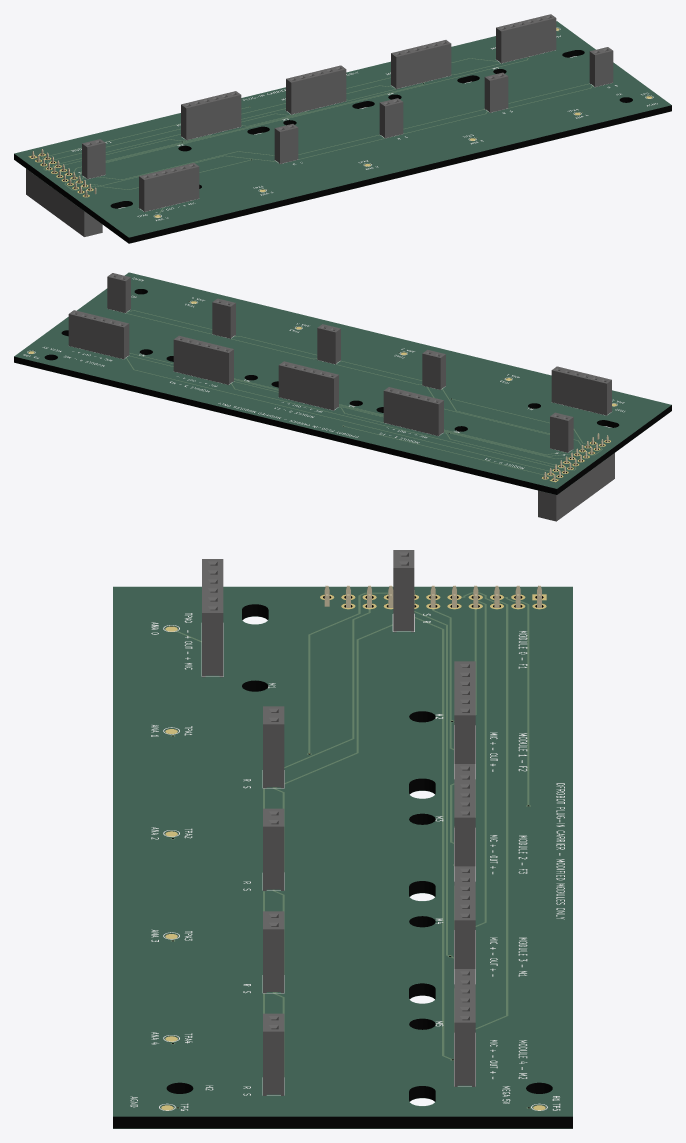
The model's file is analyser-carrier.glb.
The picture shows the model from 3 angles, top to bottom: view 1: azimuth 30°, elevation 25°; view 2: azimuth 150°, elevation 25°; view 3: azimuth 270°, elevation 25°; orthographic projection. The views are drawn at different scales.
Visible parts, largest first — view 1: analyser-carrier_visual_layers_3, analyser-carrier_visual_layers_1, DFR_M4_input_VISUAL, DFR_M1_input_VISUAL, JA1_VISUAL, DFR_M3_input_VISUAL, DFR_M2_input_VISUAL, DFR_M5_input_VISUAL, DFR_M4_control_VISUAL, DFR_M2_control_VISUAL, DFR_M3_control_VISUAL, DFR_M5_control_VISUAL (+3 smaller); view 2: analyser-carrier_visual_layers_3, analyser-carrier_visual_layers_1, JA1_VISUAL, DFR_M5_input_VISUAL, DFR_M1_input_VISUAL, DFR_M4_input_VISUAL, DFR_M2_input_VISUAL, DFR_M3_input_VISUAL, analyser-carrier_visual_layers_6, DFR_M1_control_VISUAL, DFR_M4_control_VISUAL, DFR_M2_control_VISUAL (+3 smaller); view 3: analyser-carrier_visual_layers_3, analyser-carrier_visual_layers_1, analyser-carrier_visual_layers_2, analyser-carrier_visual_layers_6, DFR_M1_input_VISUAL, DFR_M5_input_VISUAL, DFR_M2_input_VISUAL, DFR_M3_input_VISUAL, DFR_M4_input_VISUAL, DFR_M2_control_VISUAL, DFR_M3_control_VISUAL, DFR_M5_control_VISUAL (+3 smaller).
Boxes of the visible parts, x1,y1,x2,y2 form: analyser-carrier_visual_layers_3: (14,21,671,237); analyser-carrier_visual_layers_1: (14,22,671,243); DFR_M4_input_VISUAL: (391,40,451,89); DFR_M1_input_VISUAL: (139,163,199,212); JA1_VISUAL: (26,149,102,236); DFR_M3_input_VISUAL: (286,65,346,114); DFR_M2_input_VISUAL: (181,91,241,140); DFR_M5_input_VISUAL: (496,14,556,63); DFR_M4_control_VISUAL: (484,72,508,112); DFR_M2_control_VISUAL: (274,124,298,163); DFR_M3_control_VISUAL: (379,98,403,138); DFR_M5_control_VISUAL: (589,47,613,87); analyser-carrier_visual_layers_3: (14,272,671,488); analyser-carrier_visual_layers_1: (14,273,671,494); JA1_VISUAL: (538,433,614,521); DFR_M5_input_VISUAL: (68,310,129,359); DFR_M1_input_VISUAL: (551,366,611,415); DFR_M4_input_VISUAL: (173,335,233,384); DFR_M2_input_VISUAL: (383,387,443,436); DFR_M3_input_VISUAL: (278,361,338,410); analyser-carrier_visual_layers_6: (23,277,624,468); DFR_M1_control_VISUAL: (550,412,573,452); DFR_M4_control_VISUAL: (212,298,235,338); DFR_M2_control_VISUAL: (422,349,445,389); analyser-carrier_visual_layers_3: (113,586,572,1116); analyser-carrier_visual_layers_1: (113,587,572,1128); analyser-carrier_visual_layers_2: (161,593,546,1110); analyser-carrier_visual_layers_6: (130,613,564,1110); DFR_M1_input_VISUAL: (202,559,223,677); DFR_M5_input_VISUAL: (454,969,475,1086); DFR_M2_input_VISUAL: (454,661,475,763); DFR_M3_input_VISUAL: (454,764,475,866); DFR_M4_input_VISUAL: (454,866,475,968); DFR_M2_control_VISUAL: (263,706,284,788); DFR_M3_control_VISUAL: (263,808,284,890); DFR_M5_control_VISUAL: (263,1013,284,1095).
Size of the model in its own units: 0.15 by 0.0186 by 0.055.
